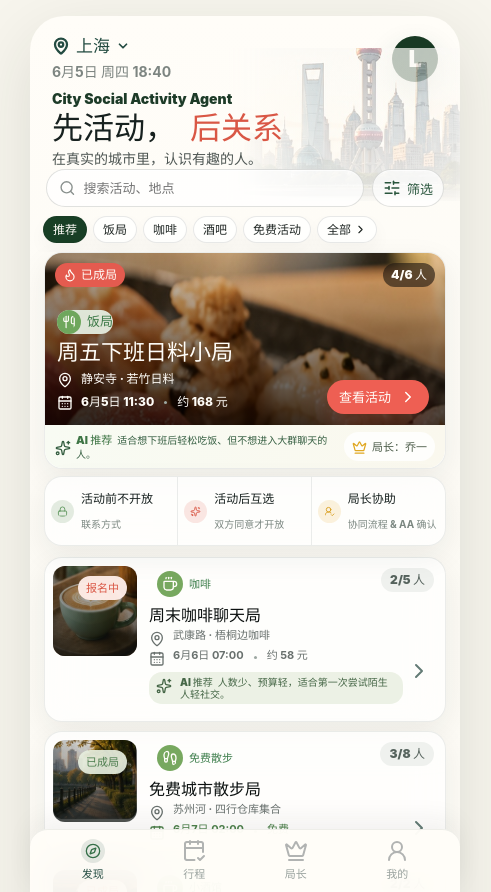
it: App discovery flow › shows restaurant photos, AI attraction copy, dishes, location, and spend on dinner detail
Click the button with aria-label "查看 周五下班日料小局" at (378, 397), box [327, 380, 429, 414]
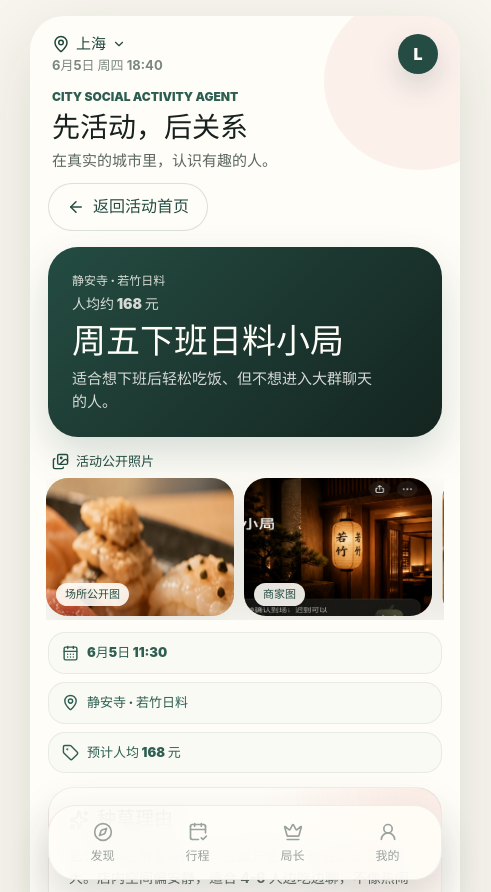
expect the text "场所公开图" is shown: met, box [56, 584, 129, 606]
expect the heading "种草理由" is shown: met, box [69, 807, 173, 830]
expect the text "人均约 168 元" is shown: met, box [72, 295, 159, 312]
